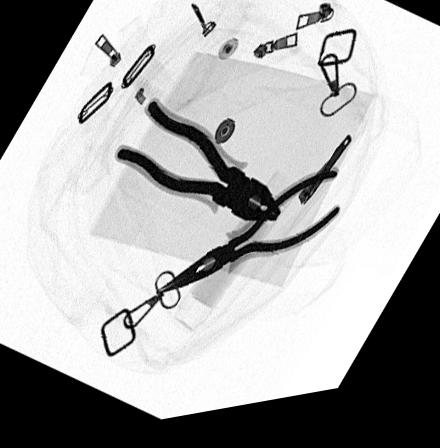Pliers: (154, 180, 343, 301), (115, 104, 282, 233)
